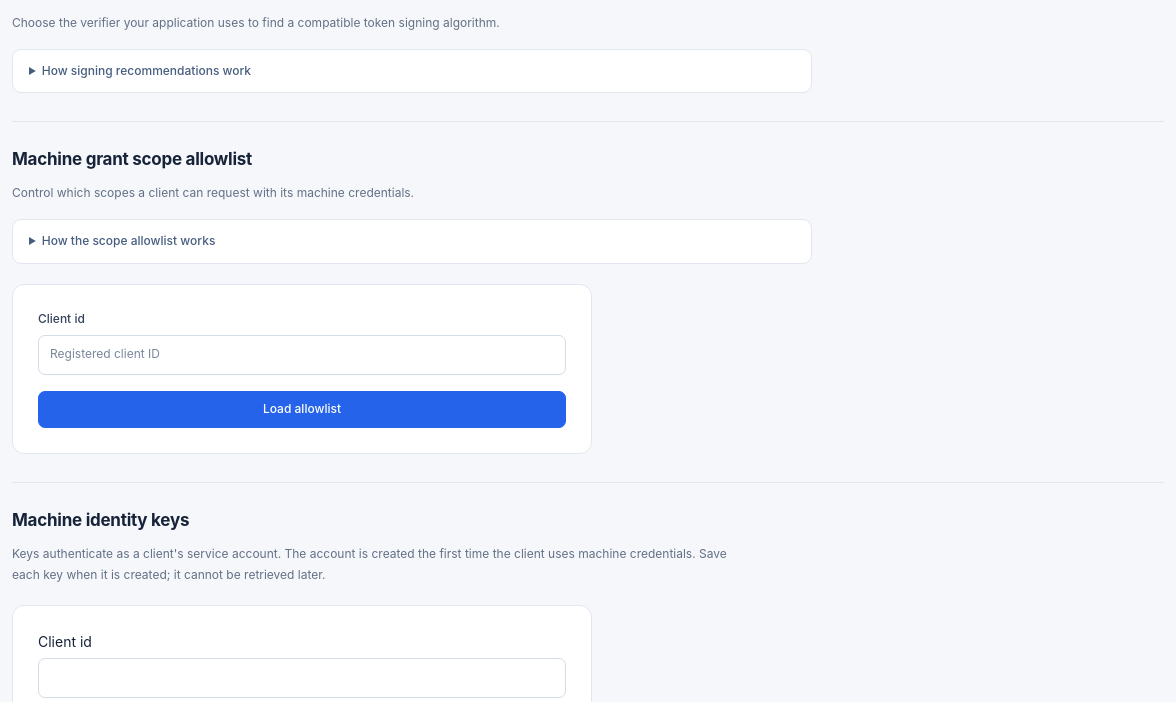
a failing write renders through the ErrorView boundary › renders the verbatim server refusal of an unmatchable entry
(page scrolled)
Type "cli_a" into the field with id "allowed-scopes-client-id" at (302, 355), box [38, 335, 566, 375]
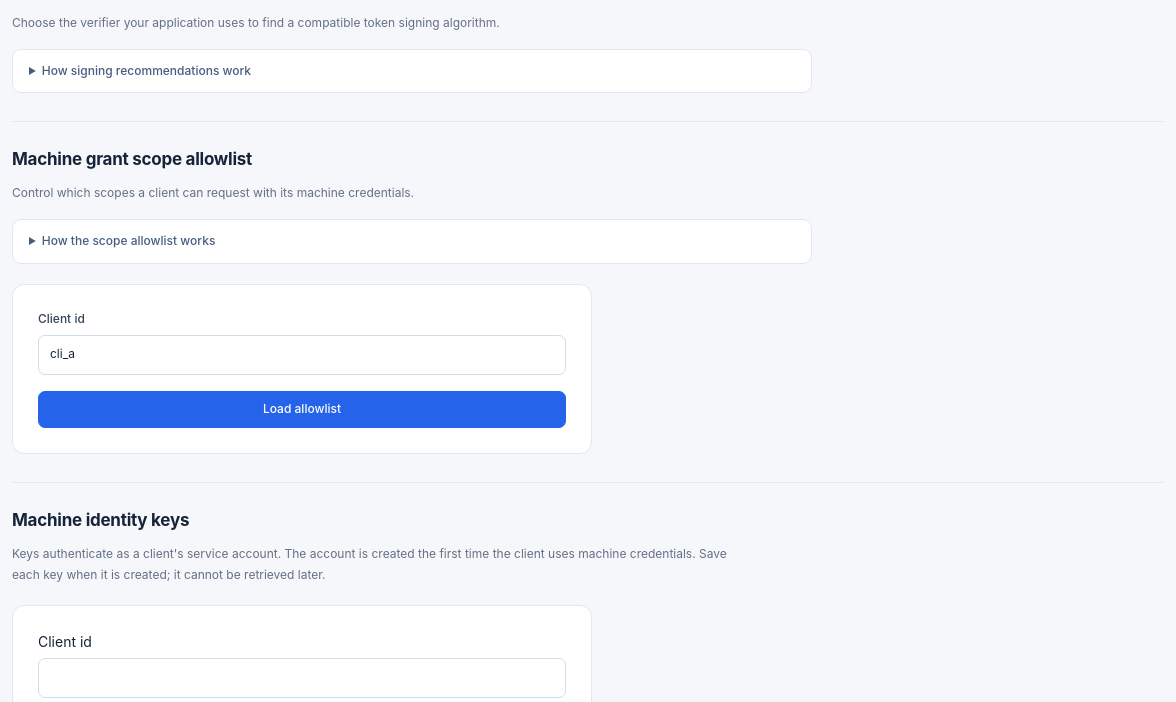
Click the button "Load allowlist" at (302, 409), box [38, 391, 566, 428]
(page scrolled)
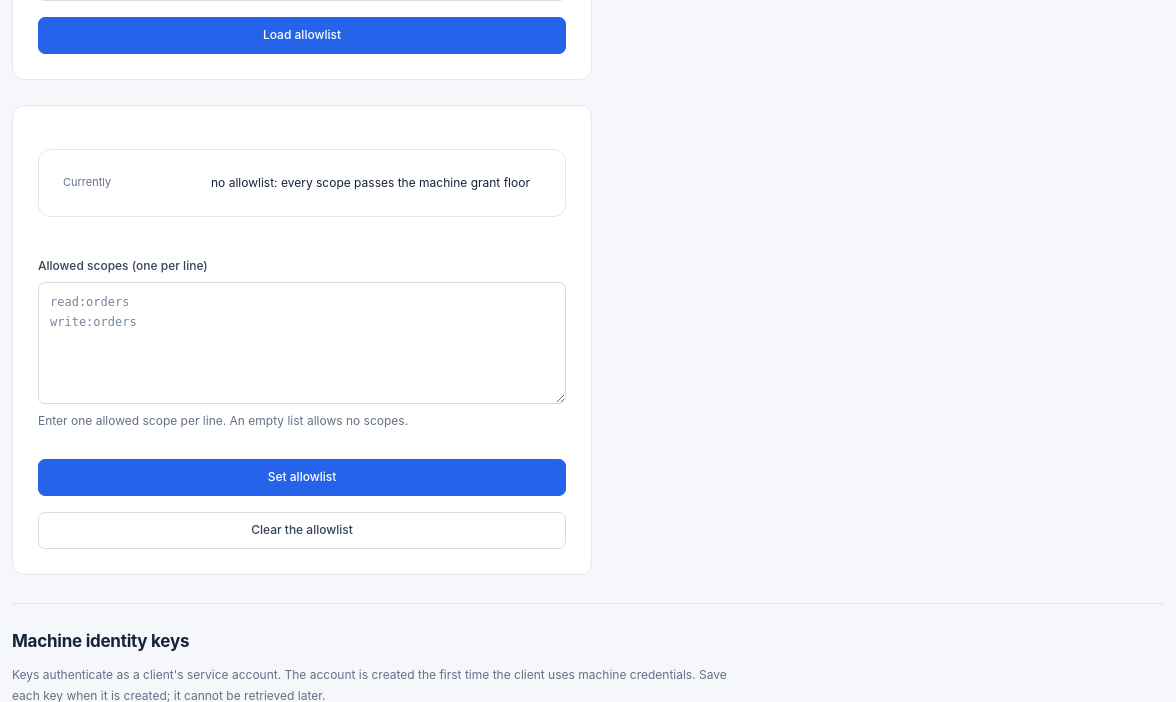
Type "read orders" into the text box with id "allowed-scopes-list" at (302, 343), box [38, 282, 566, 404]
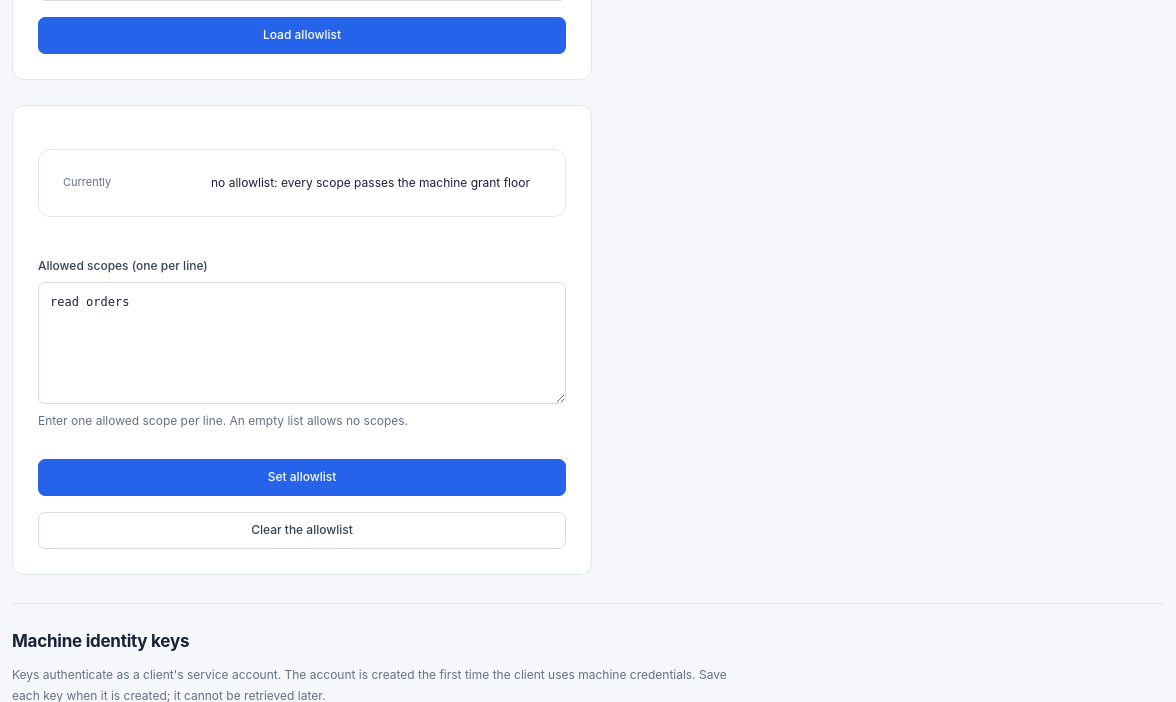
Click the button "Set allowlist" at (302, 477), box [38, 459, 566, 496]
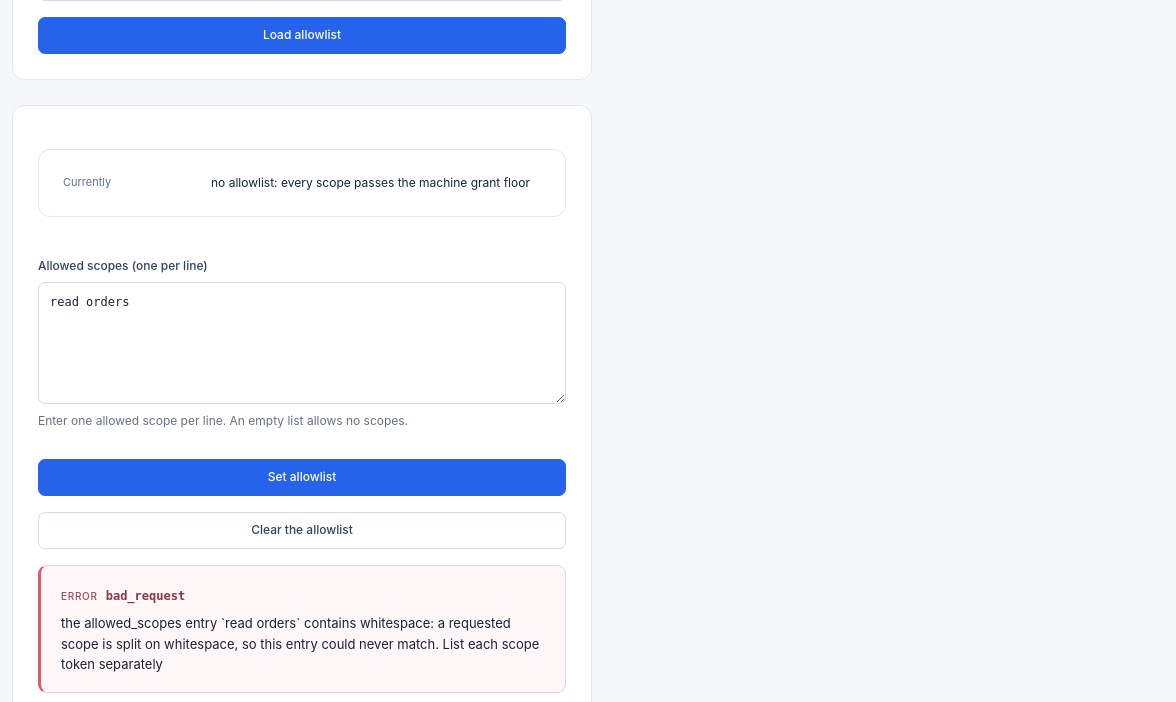
Check: the text "the allowed_scopes entry `read orders` contains whitespace: a requested scope is split on whitespace, so this entry could never match. List each scope token sep" is shown, box [61, 615, 539, 672]
